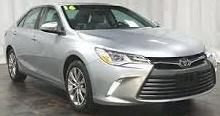Cars: (7, 6, 217, 111)
